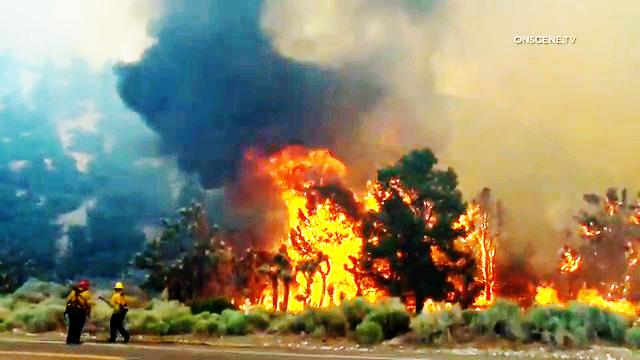fire: (263, 141, 379, 303), (535, 272, 640, 323)
smoke: (109, 0, 445, 126)
